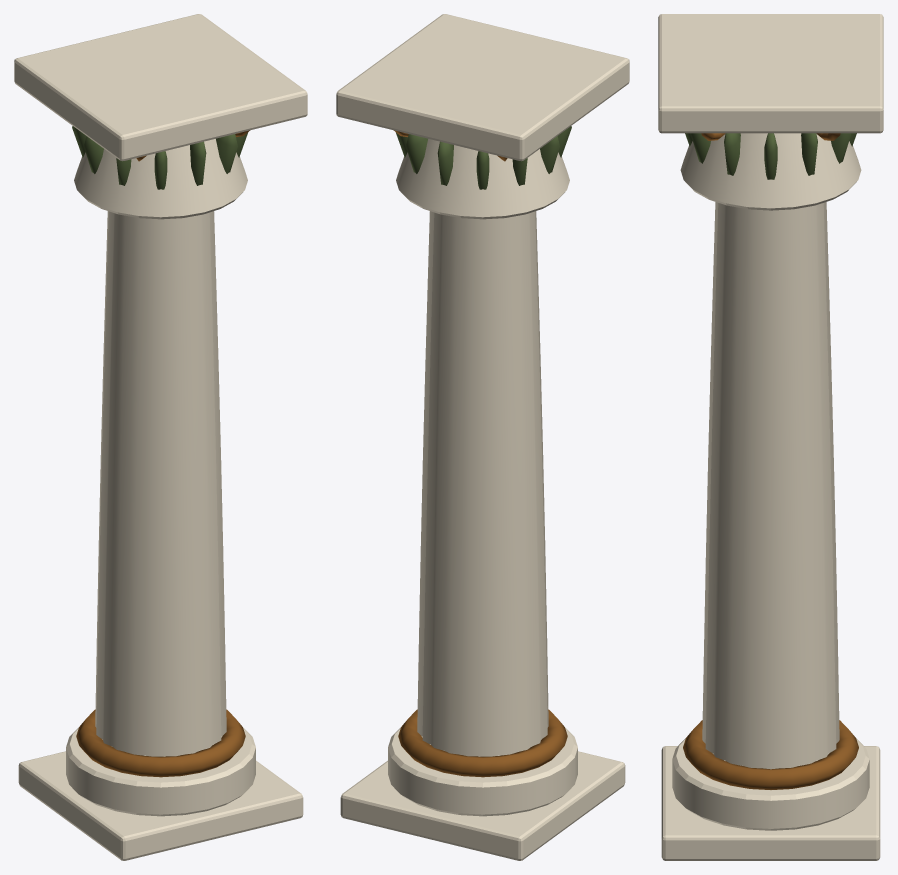
The model's file is column_corinthian_garden_LOD0.glb.
The picture shows the model from 3 angles, left to right: view 1: azimuth 30°, elevation 25°; view 2: azimuth 150°, elevation 25°; view 3: azimuth 270°, elevation 25°; orthographic projection. The views are drawn at different scales.
Visible parts, largest first — view 1: column_corinthian_garden_LOD0; view 2: column_corinthian_garden_LOD0; view 3: column_corinthian_garden_LOD0.
Boxes of the visible parts, x1=… form: column_corinthian_garden_LOD0: x1=14, y1=14, x2=307, y2=860; column_corinthian_garden_LOD0: x1=336, y1=14, x2=629, y2=860; column_corinthian_garden_LOD0: x1=658, y1=14, x2=883, y2=860.
Bounding box in the file's own units: 1.28 × 4.74 × 1.28.
